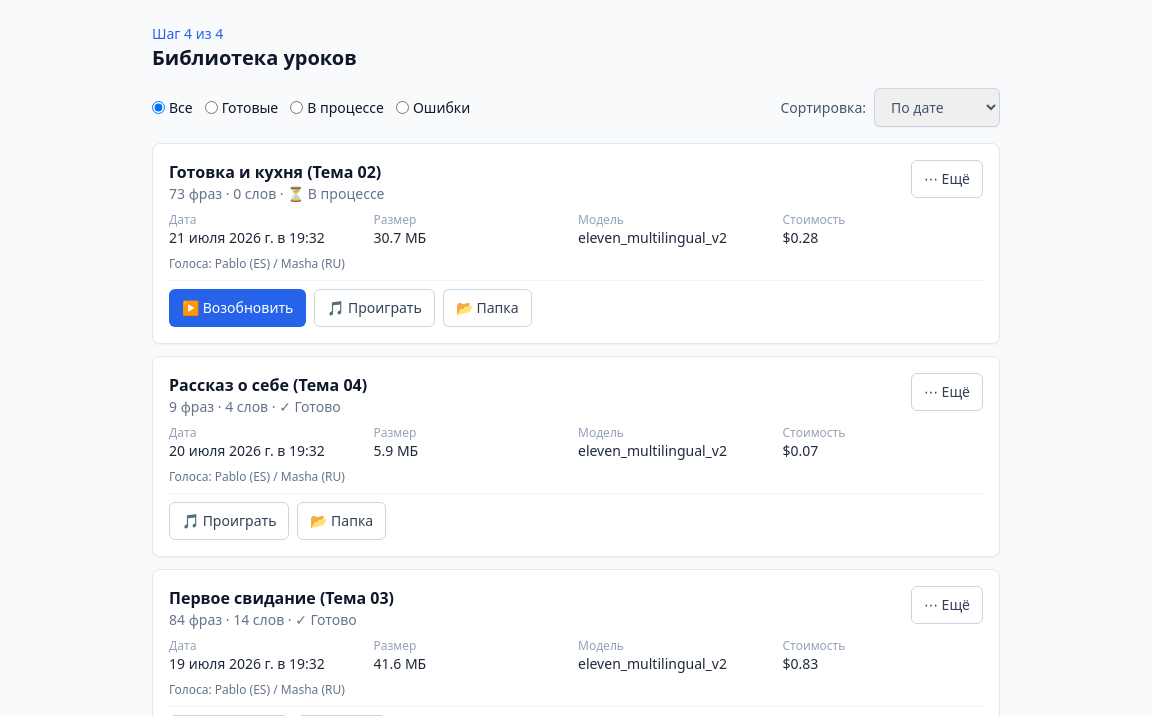
Test: LessonCard — пункт меню «Экспорт в Anki» (смоук, mockAdapter) › открывает меню карточки, кликает «Экспорт в Anki», меню закрывается без падения
Expected: the heading "Рассказ о себе (Тема 04)" is shown, left=169, top=373, right=367, bottom=397
Click the button "⋯ Ещё" in the row of "⏳ В процессе".
click(947, 179)  # box left=911, top=160, right=983, bottom=198
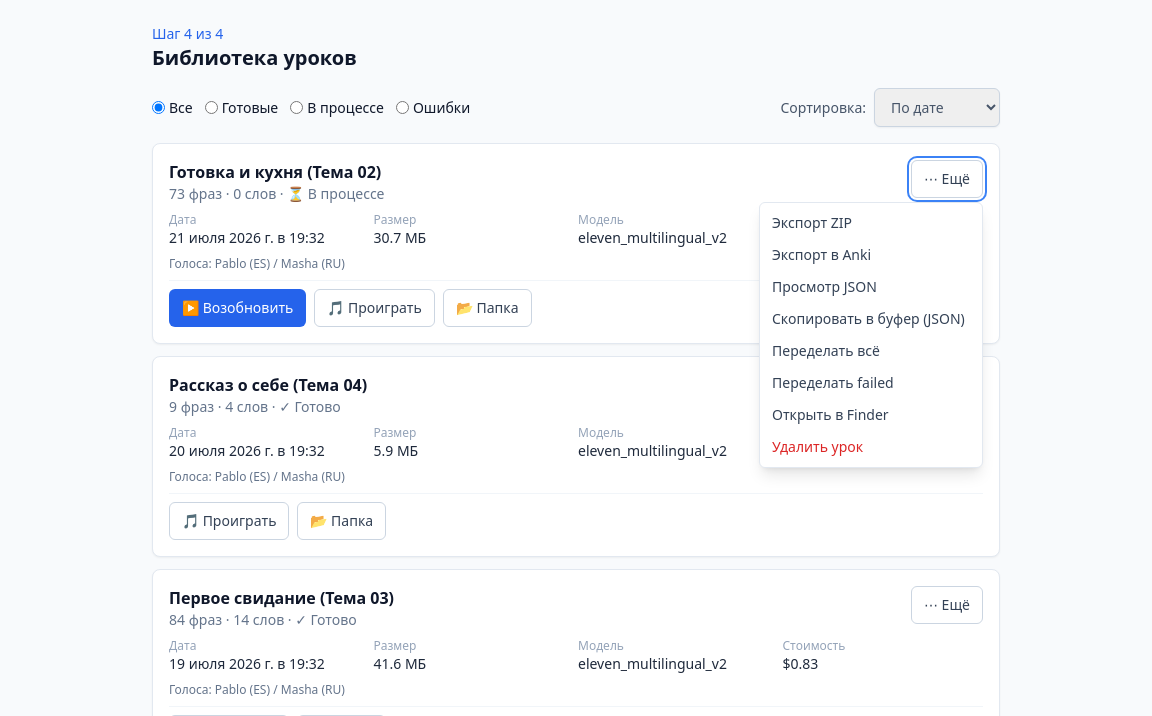
Result: the button "Экспорт в Anki" is shown
Click the button "Экспорт в Anki".
click(871, 255)  # box left=760, top=239, right=982, bottom=271
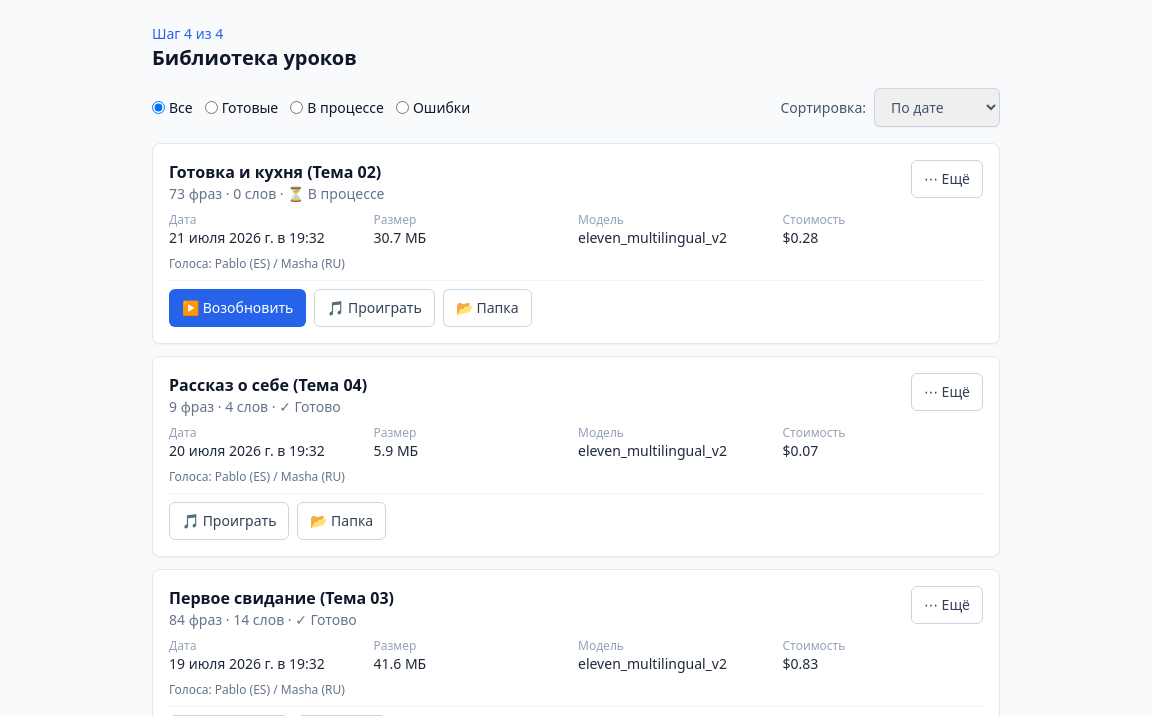
Result: the button "Экспорт в Anki" is gone
